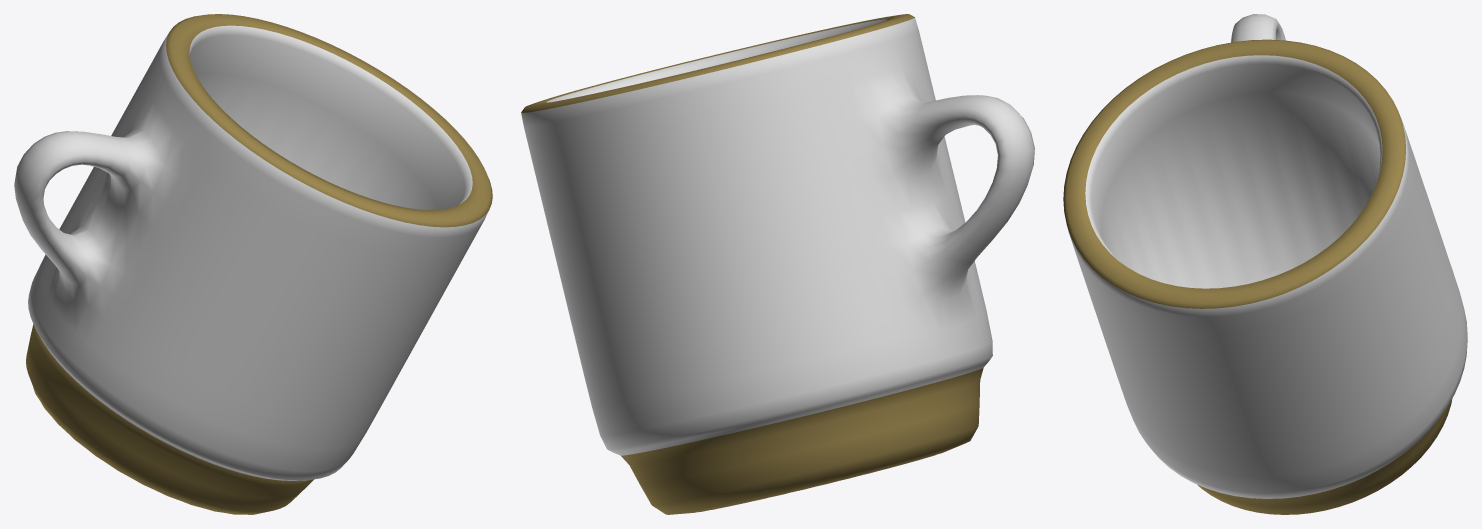
The model's file is Mug.gltf.
The picture shows the model from 3 angles, left to right: view 1: azimuth 30°, elevation 25°; view 2: azimuth 150°, elevation 25°; view 3: azimuth 270°, elevation 25°; orthographic projection. The views are drawn at different scales.
Parts seen in each view (by area): view 1: Mug_Rotated; view 2: Mug_Rotated; view 3: Mug_Rotated.
Boxes of the visible parts, x1,y1,x2,y2 form: Mug_Rotated: (14, 14, 492, 514); Mug_Rotated: (521, 14, 1034, 514); Mug_Rotated: (1063, 14, 1467, 514).
Size of the model in its own units: 0.141 by 0.1357 by 0.1167.
